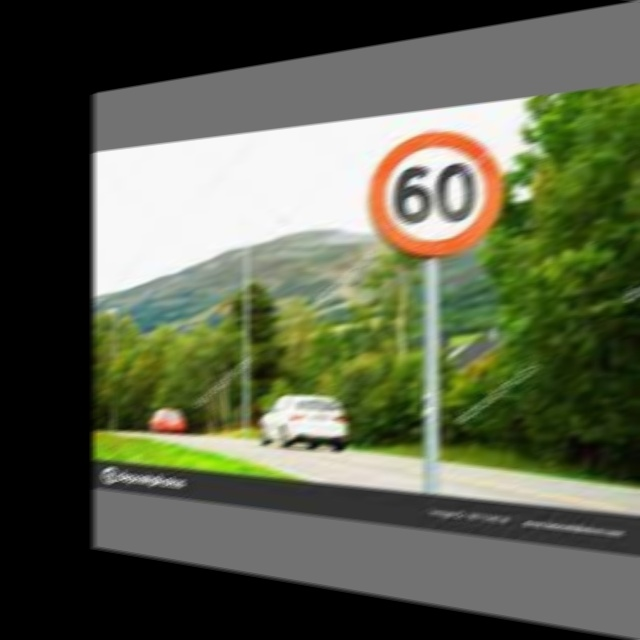Speed_Limit_60: (367, 119, 502, 257)
